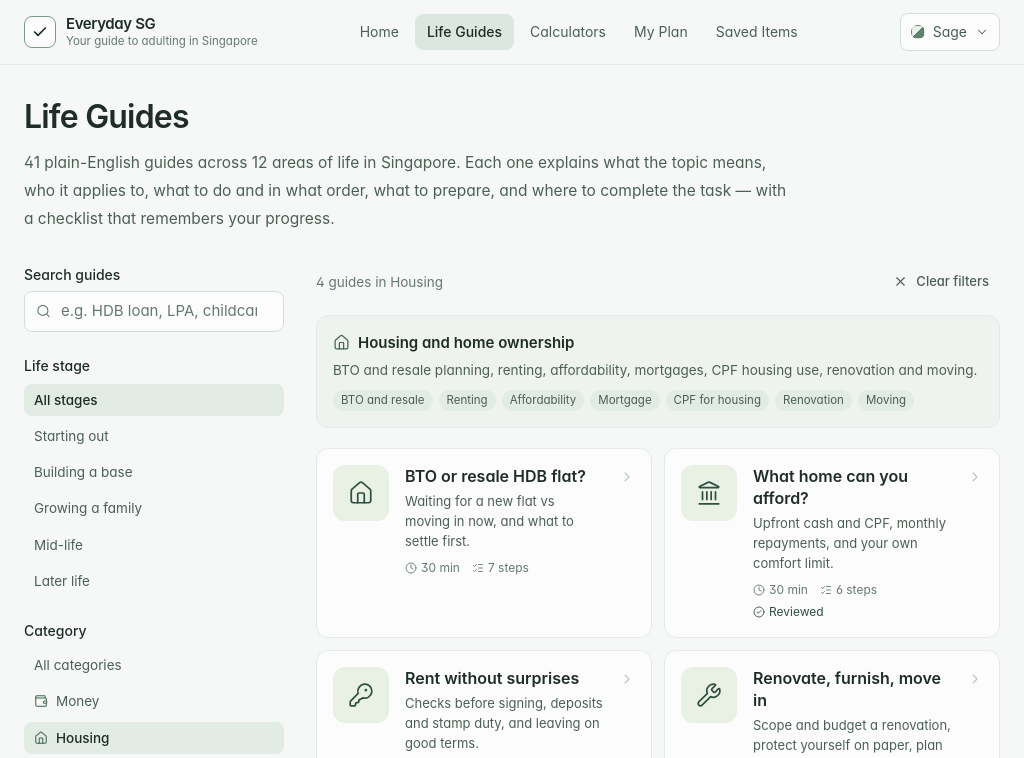
it: pages render › renders the guide library, filters by category and opens a guide
The image size is (1024, 758).
Expected: the text "4 guides in Housing" is shown, [316,272,443,292]
Click the link "BTO or resale HDB flat": (361, 493) [316,448,652,638]
(page scrolled)
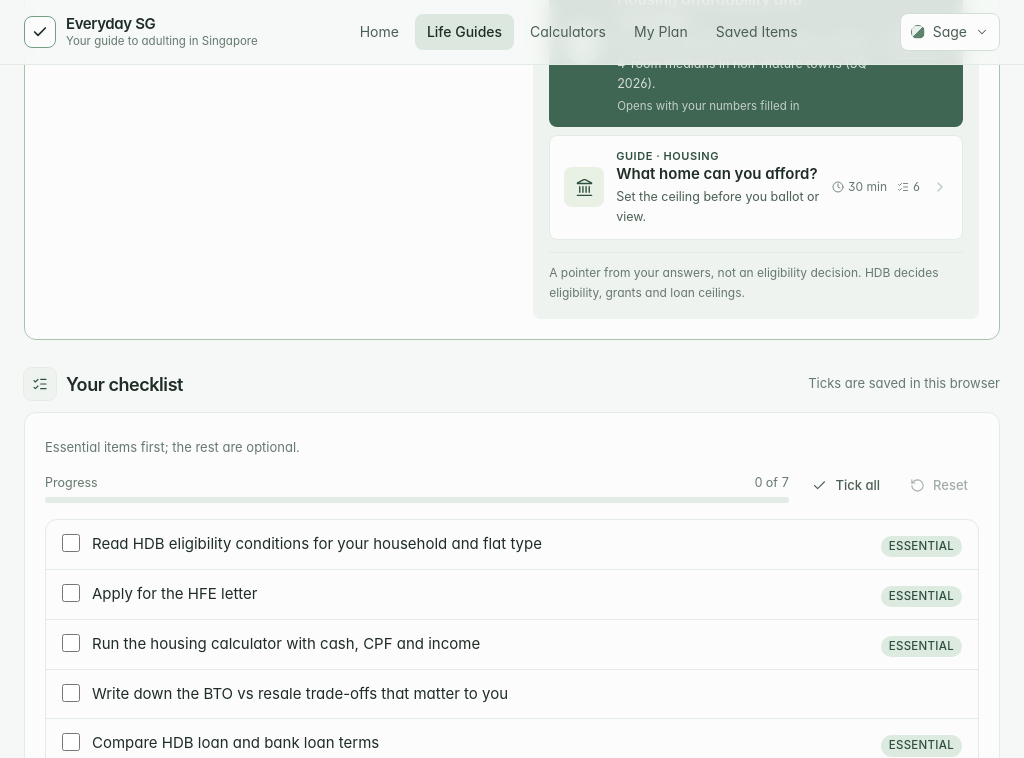
Expected: the heading "Your checklist" is shown, [66,370,183,398]
